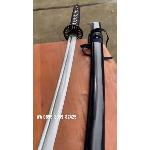Pedang: (37, 2, 88, 150)
